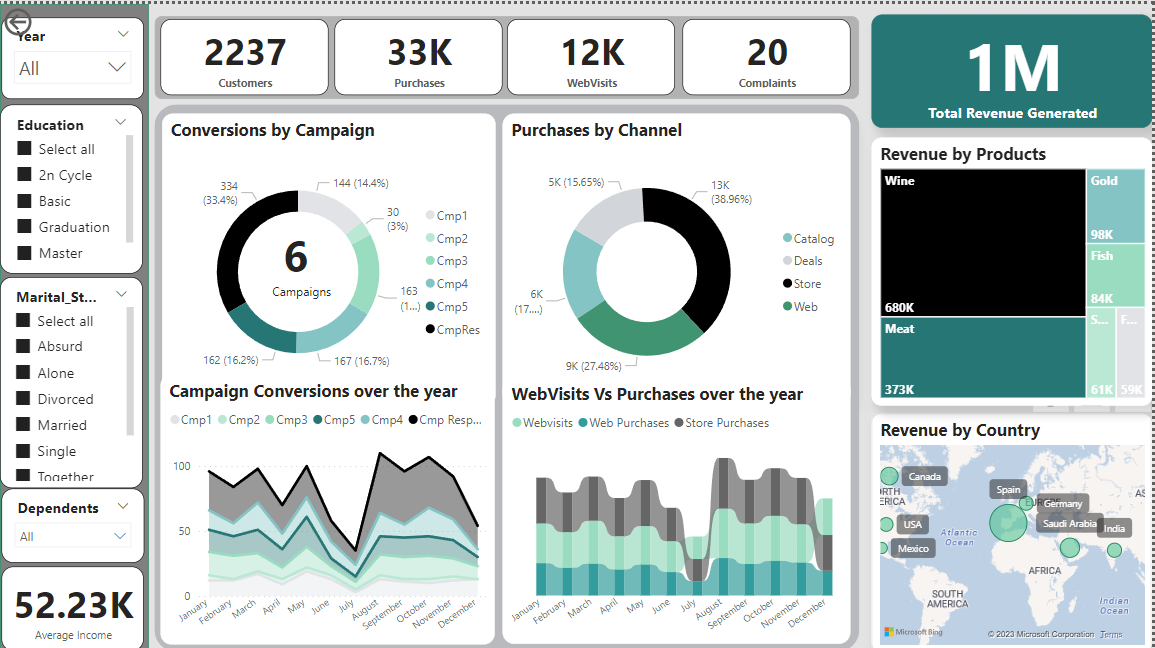

The page's visual inventory and layout, read from the dashboard file:
{"tool":"powerbi","page":{"name":"Page 1","canvas":[1280,720],"ordinal":0},"visuals":[{"type":"shape","box":[0,0,165.5,719.5],"z":0},{"type":"shape","box":[171.2,111.6,783,607.9],"z":1000},{"type":"slicer","fields":{"Values":["marketing.Dt_Customer.Variation.Date Hierarchy.Year"]},"box":[1.9,15.4,157.8,90.4],"z":2000},{"type":"donutChart","title":"Conversions by Campaign","fields":{"Y":["Sum(marketing.AcceptedCmp1)","Sum(marketing.AcceptedCmp2)","Sum(marketing.AcceptedCmp3)","Sum(marketing.AcceptedCmp4)","Sum(marketing.AcceptedCmp5)","Sum(marketing.Response)"]},"box":[179.6,121.3,370.5,325.2],"z":3000},{"type":"actionButton","box":[0,0,100,40],"z":4000},{"type":"donutChart","title":"Purchases by Channel","fields":{"Y":["Sum(marketing.NumCatalogPurchases)","Sum(marketing.NumDealsPurchases)","Sum(marketing.NumStorePurchases)","Sum(marketing.NumWebPurchases)"]},"box":[558.2,121.3,386.7,325.2],"z":5000},{"type":"shape","box":[171.2,13.5,783,92.3],"z":6000},{"type":"card","fields":{"Values":["Count(marketing.ID)"]},"box":[178.9,17.3,186.6,84.6],"z":7000},{"type":"card","fields":{"Values":["Avg(marketing.Income)"]},"box":[1.9,625.3,157.8,94.3],"z":8000},{"type":"card","title":"Total Revenue Generated","fields":{"Values":["Sum(marketing.TotalMnt)"]},"box":[967.6,11.3,312.3,126.2],"z":9000},{"type":"ribbonChart","title":"WebVisits Vs Purchases over the year","fields":{"Y":["Sum(marketing.NumWebVisitsMonth)","Sum(marketing.NumWebPurchases)","Sum(marketing.NumStorePurchases)"],"Category":["marketing.Dt_Customer.Variation.Date Hierarchy.Month"]},"box":[557.9,415.6,386.7,296.3],"z":10000},{"type":"map","fields":{"Category":["marketing.Country"],"Size":["Sum(marketing.TotalMnt)"]},"box":[967.6,454.7,312.3,265.3],"z":11000},{"type":"slicer","fields":{"Values":["marketing.Dependents"]},"box":[1.6,538.8,158.6,82.5],"z":12000},{"type":"slicer","fields":{"Values":["marketing.Marital_Status"]},"box":[0,302.6,158.6,234.6],"z":13000},{"type":"slicer","fields":{"Values":["marketing.Education"]},"box":[0,111.6,158.6,187.7],"z":14000},{"type":"stackedAreaChart","title":"Campaign Conversions over the year","fields":{"Category":["marketing.Dt_Customer.Variation.Date Hierarchy.Month"],"Y":["Sum(marketing.AcceptedCmp1)","Sum(marketing.AcceptedCmp2)","Sum(marketing.AcceptedCmp3)","Sum(marketing.AcceptedCmp5)","Sum(marketing.AcceptedCmp4)","Sum(marketing.Response)"]},"box":[178.9,411.7,371.3,300.1],"z":15000},{"type":"treemap","title":"Revenue by Products","fields":{"Values":["Sum(marketing.MntFruits)","Sum(marketing.MntSweetProducts)","Sum(marketing.MntFishProducts)","Sum(marketing.MntGoldProds)","Sum(marketing.MntMeatProducts)","Sum(marketing.MntWines)"]},"box":[967.6,148.9,312.3,297.7],"z":16000},{"type":"card","fields":{"Values":["Sum(marketing.TotalPurchases)"]},"box":[371.3,17.3,186.6,84.6],"z":17000},{"type":"card","fields":{"Values":["Sum(marketing.NumWebVisitsMonth)"]},"box":[563.7,17.3,186.6,84.6],"z":18000},{"type":"card","fields":{"Values":["Sum(marketing.Complain)"]},"box":[758,17.3,186.6,84.6],"z":19000},{"type":"textbox","box":[171.2,240.5,327.1,119.3],"z":20000}]}

Visuals, with their boxes in screenshot pixels (x1, y1, x2, y2), scaled from the page's 1280x720 canvas onto the 1155x648 screenshot:
shape: left=0, top=0, right=149, bottom=647
shape: left=154, top=100, right=861, bottom=647
slicer - marketing.Dt_Customer.Variation.Date Hierarchy.Year: left=2, top=14, right=144, bottom=95
"Conversions by Campaign" donutChart: left=162, top=109, right=496, bottom=402
actionButton: left=0, top=0, right=90, bottom=36
"Purchases by Channel" donutChart: left=504, top=109, right=853, bottom=402
shape: left=154, top=12, right=861, bottom=95
card - Count(marketing.ID): left=161, top=16, right=330, bottom=92
card - Avg(marketing.Income): left=2, top=563, right=144, bottom=647
"Total Revenue Generated" card: left=873, top=10, right=1154, bottom=124
"WebVisits Vs Purchases over the year" ribbonChart: left=503, top=374, right=852, bottom=641
map - marketing.Country x Sum(marketing.TotalMnt): left=873, top=409, right=1154, bottom=647
slicer - marketing.Dependents: left=1, top=485, right=145, bottom=559
slicer - marketing.Marital_Status: left=0, top=272, right=143, bottom=483
slicer - marketing.Education: left=0, top=100, right=143, bottom=269
"Campaign Conversions over the year" stackedAreaChart: left=161, top=371, right=496, bottom=641
"Revenue by Products" treemap: left=873, top=134, right=1154, bottom=402
card - Sum(marketing.TotalPurchases): left=335, top=16, right=503, bottom=92
card - Sum(marketing.NumWebVisitsMonth): left=509, top=16, right=677, bottom=92
card - Sum(marketing.Complain): left=684, top=16, right=852, bottom=92
textbox: left=154, top=216, right=450, bottom=324
